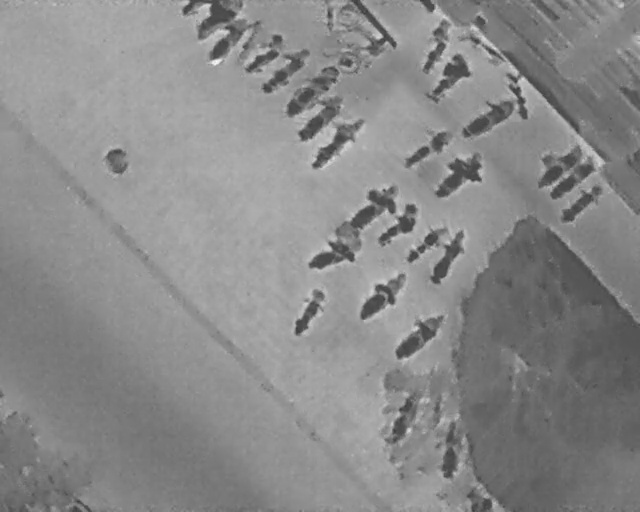Bicycle: (423, 143, 496, 214), (300, 106, 370, 175), (342, 173, 410, 240), (350, 261, 417, 328), (386, 302, 451, 367), (279, 59, 344, 124), (252, 37, 316, 100), (288, 87, 350, 148), (452, 91, 519, 147), (396, 120, 458, 177), (422, 226, 474, 290), (199, 11, 253, 72), (529, 138, 590, 192), (424, 48, 478, 108), (543, 154, 601, 205), (373, 199, 427, 253), (238, 27, 292, 81), (553, 178, 610, 229), (299, 232, 360, 278), (287, 284, 330, 342), (460, 24, 513, 69), (385, 385, 424, 446), (438, 416, 466, 481), (334, 38, 385, 72), (196, 0, 238, 40), (401, 227, 442, 267), (417, 34, 452, 78), (504, 80, 536, 125), (465, 485, 492, 511), (181, 0, 201, 16)
